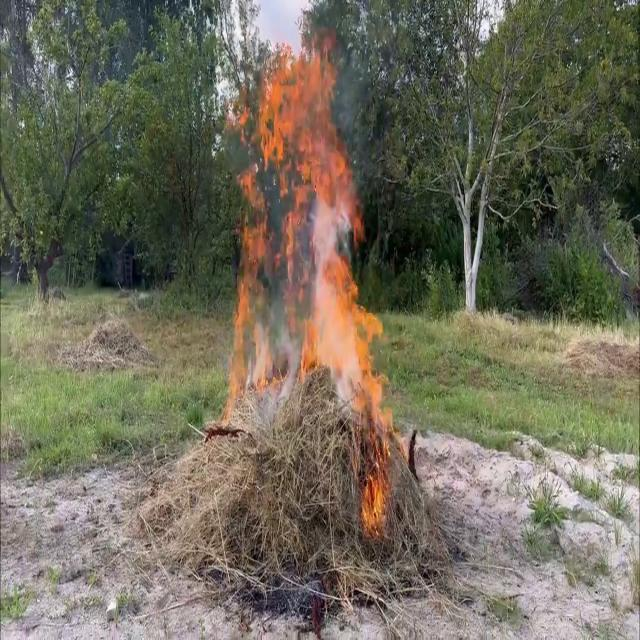Fire: (227, 38, 397, 522)
